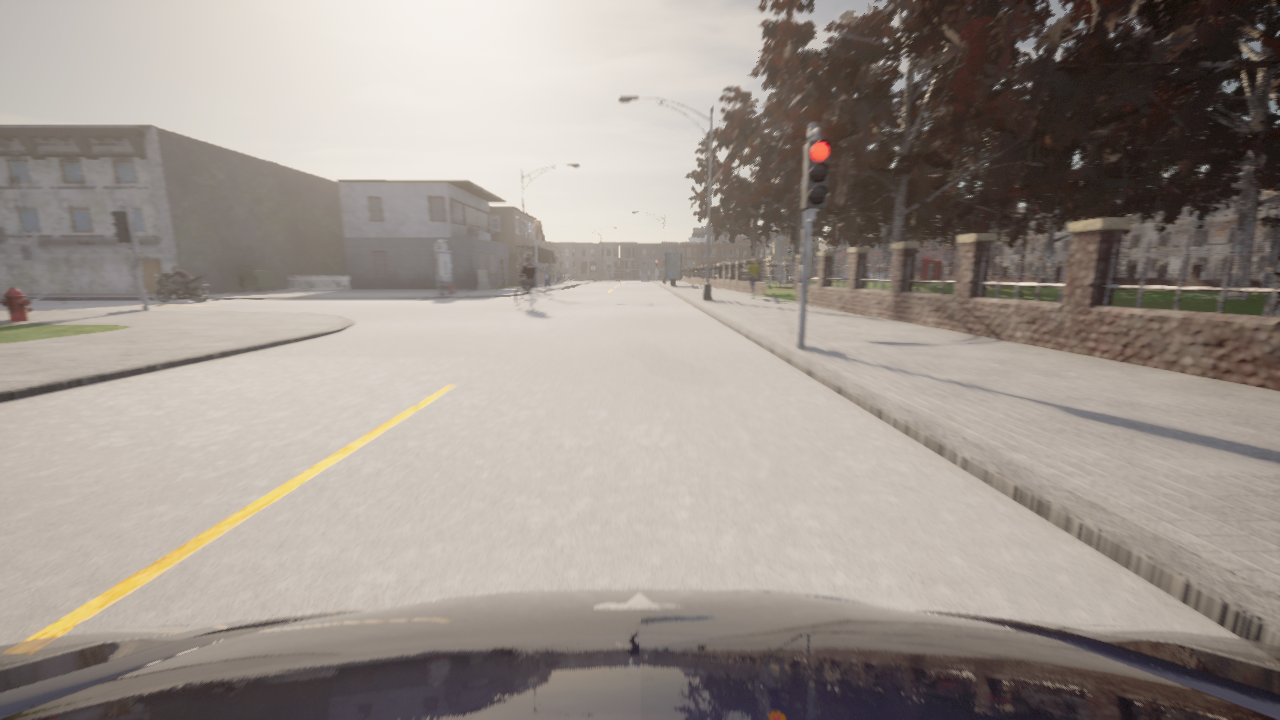cyclist: (0, 588, 1279, 719), (154, 273, 210, 302), (516, 286, 541, 310)
pedestrian: (744, 257, 760, 299)
